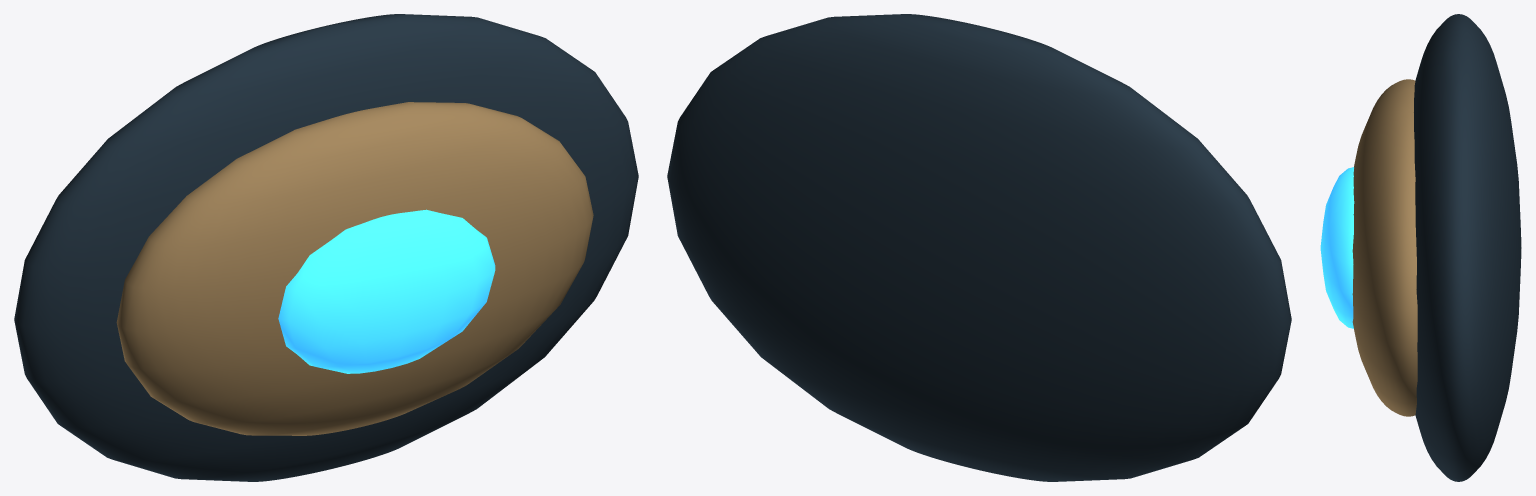
File: OriginalCruiser_Deflector.fbx
The picture shows the model from 3 angles, left to right: view 1: azimuth 30°, elevation 25°; view 2: azimuth 150°, elevation 25°; view 3: azimuth 270°, elevation 25°; orthographic projection. The views are drawn at different scales.
Visible parts, largest first — view 1: OriginalCruiser_Deflector; view 2: OriginalCruiser_Deflector; view 3: OriginalCruiser_Deflector.
Boxes of the visible parts, x1,y1,x2,y2 form: OriginalCruiser_Deflector: (14,14,638,481); OriginalCruiser_Deflector: (667,14,1291,481); OriginalCruiser_Deflector: (1320,14,1521,481).
Size of the model in its own units: 5977 by 4064 by 1913.
Materials: 1 (1 with a texture image).
